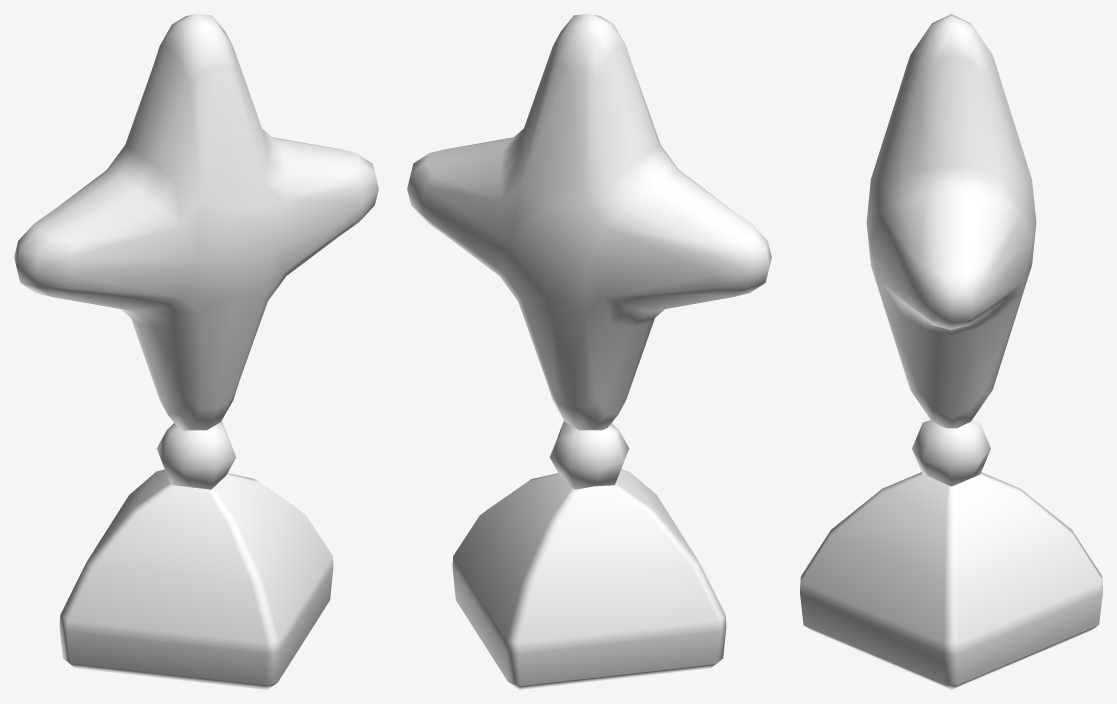
Rendered from CharSkyKid_Prop_AP11Star_01.glb.
3 renders of one model, left to right at view 1: azimuth 30°, elevation 25°; view 2: azimuth 150°, elevation 25°; view 3: azimuth 270°, elevation 25°, orthographic.
Parts seen in each view (by area): view 1: CharSkyKid_Prop_AP11Star_01; view 2: CharSkyKid_Prop_AP11Star_01; view 3: CharSkyKid_Prop_AP11Star_01.
Boxes of the visible parts, box(x1,y1,x2,y2) form: CharSkyKid_Prop_AP11Star_01: box(14, 14, 378, 689); CharSkyKid_Prop_AP11Star_01: box(407, 14, 771, 689); CharSkyKid_Prop_AP11Star_01: box(800, 14, 1102, 689).
Bounding box in the file's own units: 2.84 × 4.71 × 2.1.
Materials: 1 (1 with a texture image).
